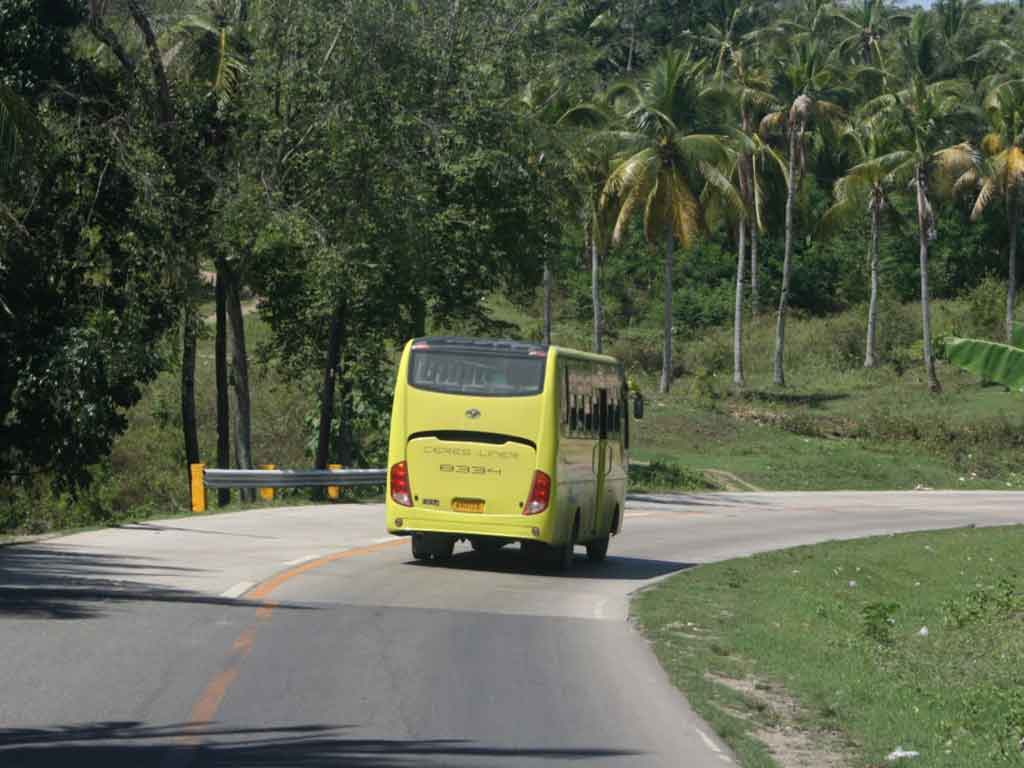bus: (387, 334, 632, 574)
tree: (1, 10, 124, 462), (292, 78, 369, 468), (630, 69, 698, 390), (761, 53, 816, 389), (889, 139, 944, 393)
